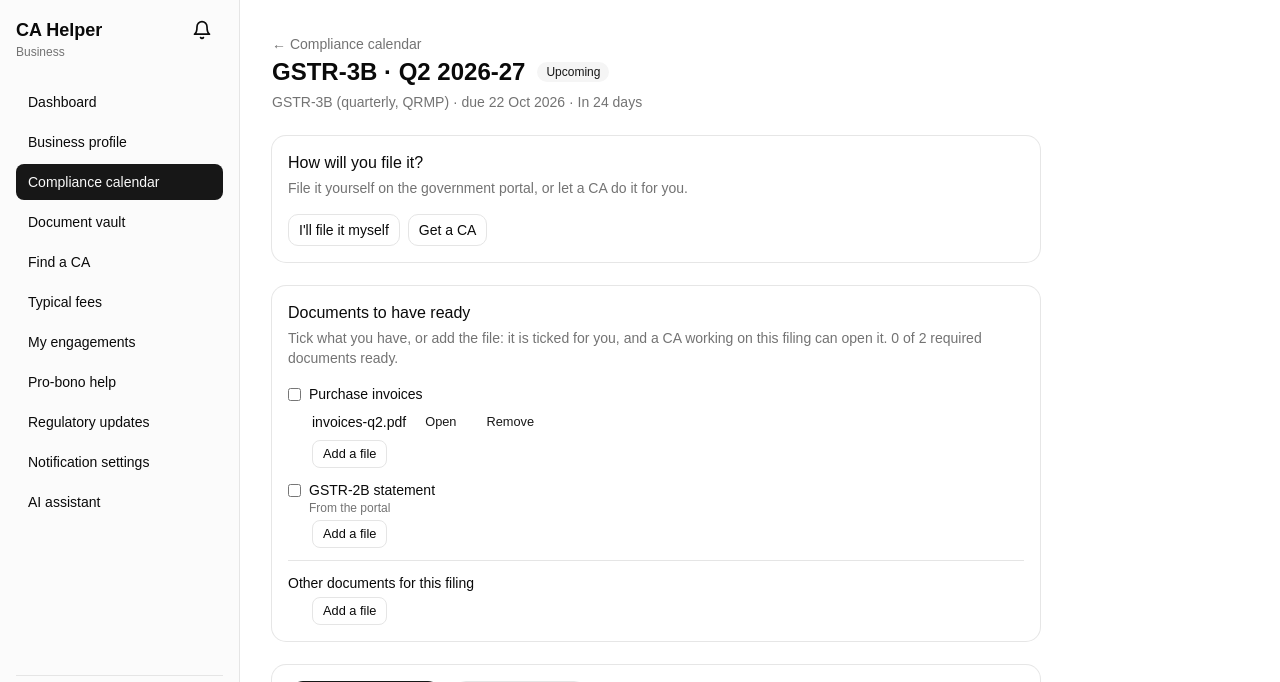
Scenario: filing page documents › removes a linked file and shows why it failed
What coordinates should you click on to do the following:
click the button with aria-label "Remove invoices-q2.pdf"
I would click on:
 (510, 422)
Its box is [476,408,545,436].
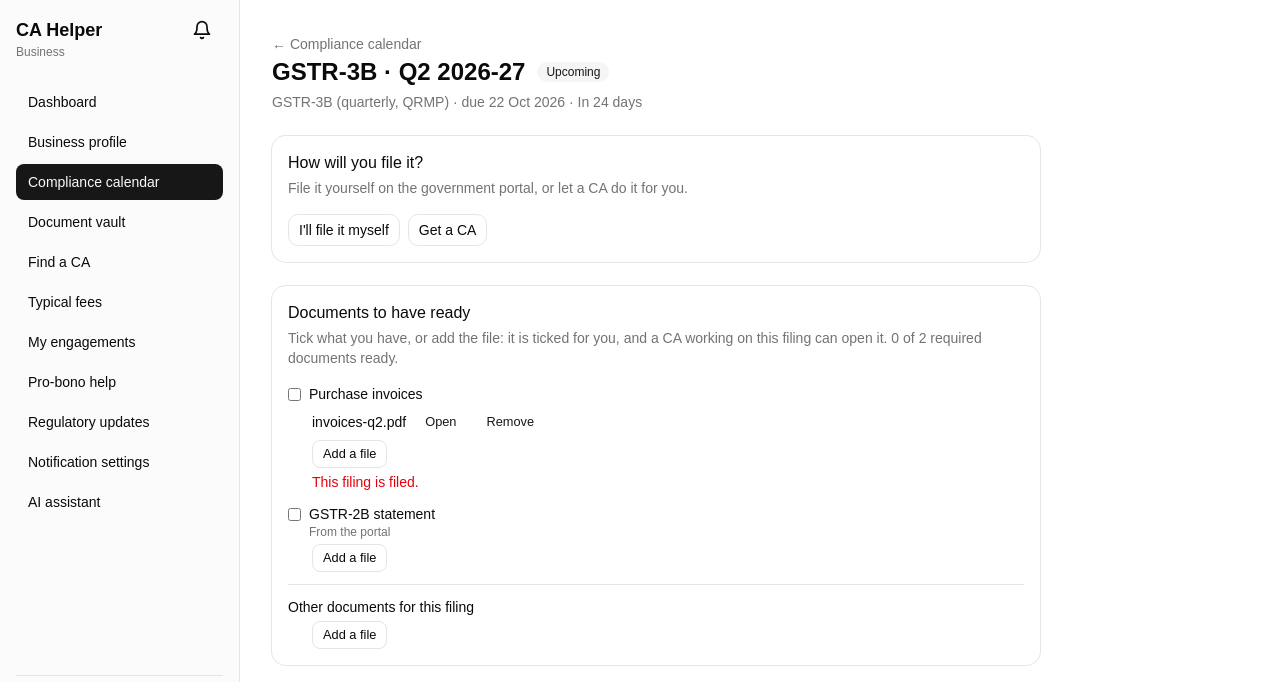
Expected: the text "This filing is filed." is shown, [312,474,419,490]
